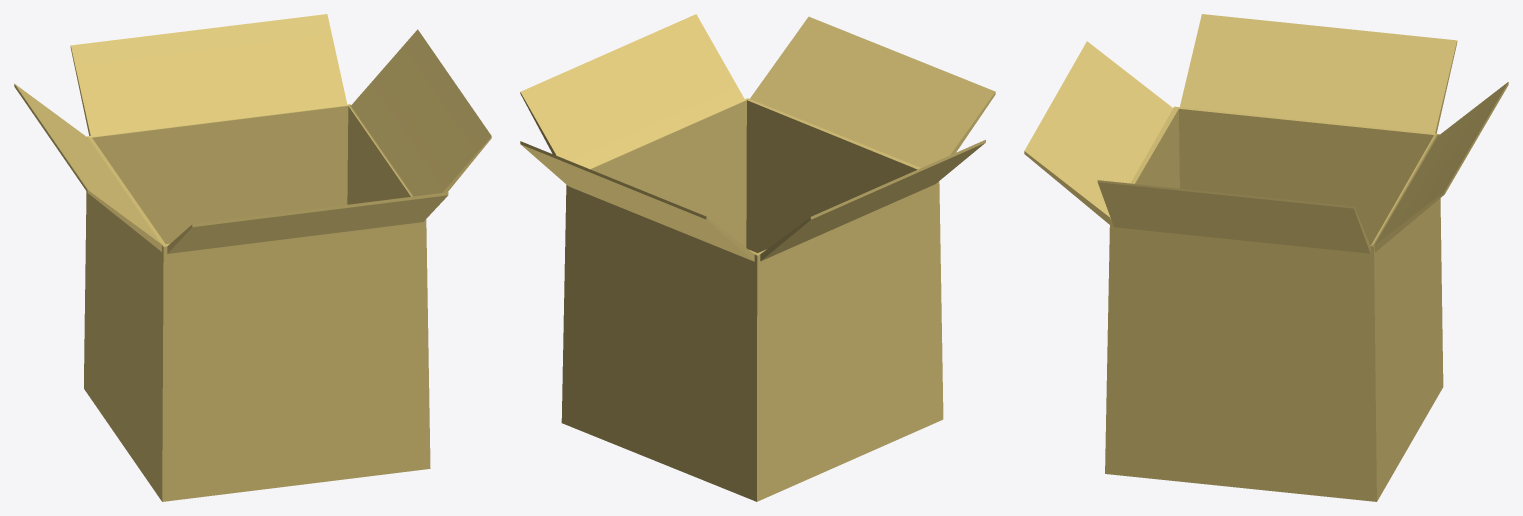
Rendered from ZG_Proxy_Box1.fbx.
The picture shows the model from 3 angles, left to right: view 1: azimuth 30°, elevation 25°; view 2: azimuth 150°, elevation 25°; view 3: azimuth 270°, elevation 25°; orthographic projection. The views are drawn at different scales.
Parts seen in each view (by area): view 1: Cardboard; view 2: Cardboard; view 3: Cardboard.
Boxes of the visible parts, box(x1,y1,x2,y2) form: Cardboard: box(14, 14, 491, 501); Cardboard: box(520, 14, 995, 501); Cardboard: box(1024, 14, 1508, 501).
Bounding box in the file's own units: 216 × 163 × 223.
